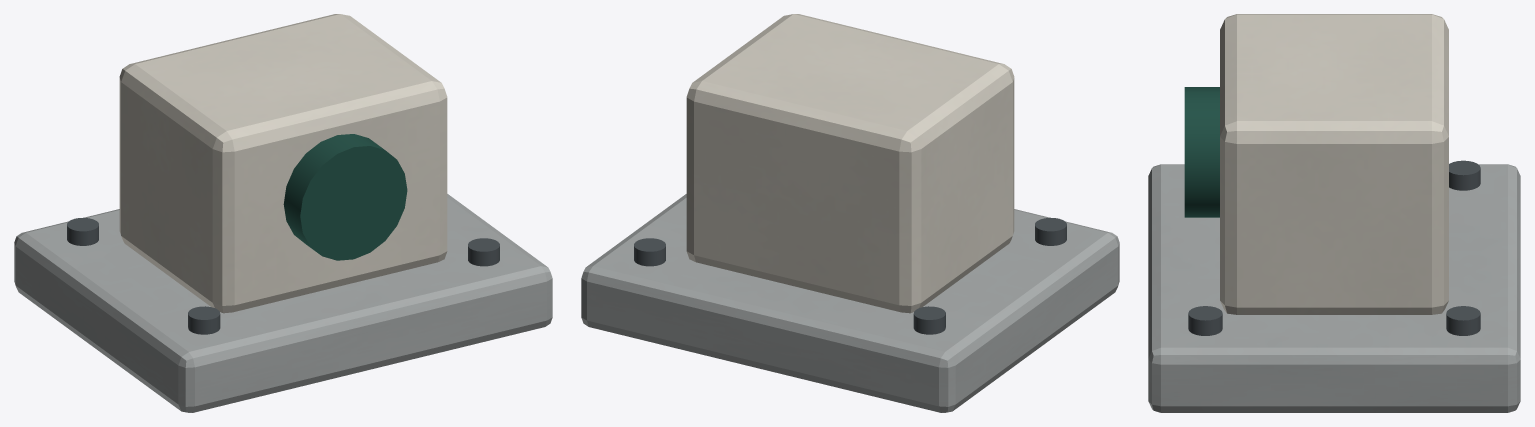
The model's file is rocket_external_sensor.glb.
3 views of the same model, side by side, from view 1: azimuth 30°, elevation 25°; view 2: azimuth 150°, elevation 25°; view 3: azimuth 270°, elevation 25° (orthographic). The views are drawn at different scales.
Parts seen in each view (by area): view 1: SensorHousing, MountPlate, SensorLens, Fastener, Fastener.002, Fastener.001; view 2: SensorHousing, MountPlate, Fastener.001, Fastener.003, Fastener; view 3: SensorHousing, MountPlate, SensorLens, Fastener.002, Fastener.003, Fastener.001.
Part boxes in pixels (x1,y1,x2,y2): SensorHousing: (119, 14, 447, 313); MountPlate: (14, 194, 552, 412); SensorLens: (283, 134, 407, 260); Fastener: (188, 306, 220, 334); Fastener.002: (468, 238, 499, 266); Fastener.001: (67, 217, 98, 245); SensorHousing: (686, 14, 1014, 313); MountPlate: (581, 194, 1119, 412); Fastener.001: (913, 306, 945, 334); Fastener.003: (634, 238, 665, 266); Fastener: (1035, 217, 1066, 245); SensorHousing: (1220, 14, 1448, 314); MountPlate: (1148, 164, 1520, 412); SensorLens: (1184, 87, 1219, 217); Fastener.002: (1188, 306, 1222, 335); Fastener.003: (1446, 306, 1480, 335); Fastener.001: (1449, 160, 1480, 190).
Size of the model in its own units: 0.32 by 0.195 by 0.26.
Materials: 4 (2 with a texture image).
